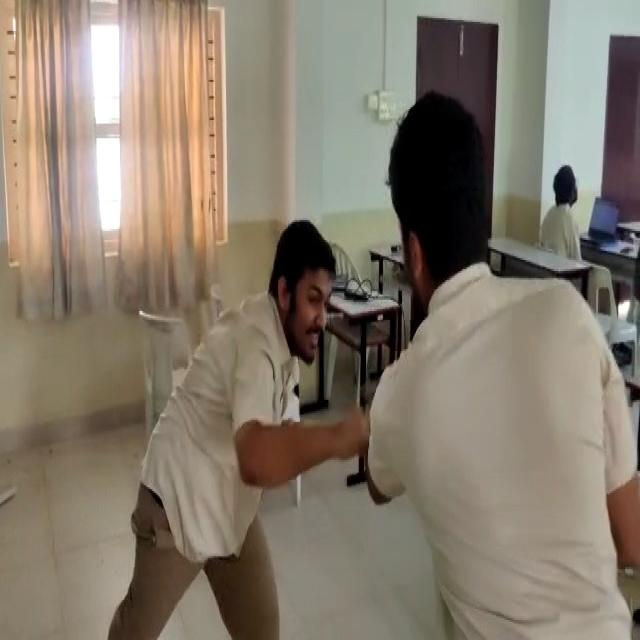fight: (141, 94, 625, 564)
